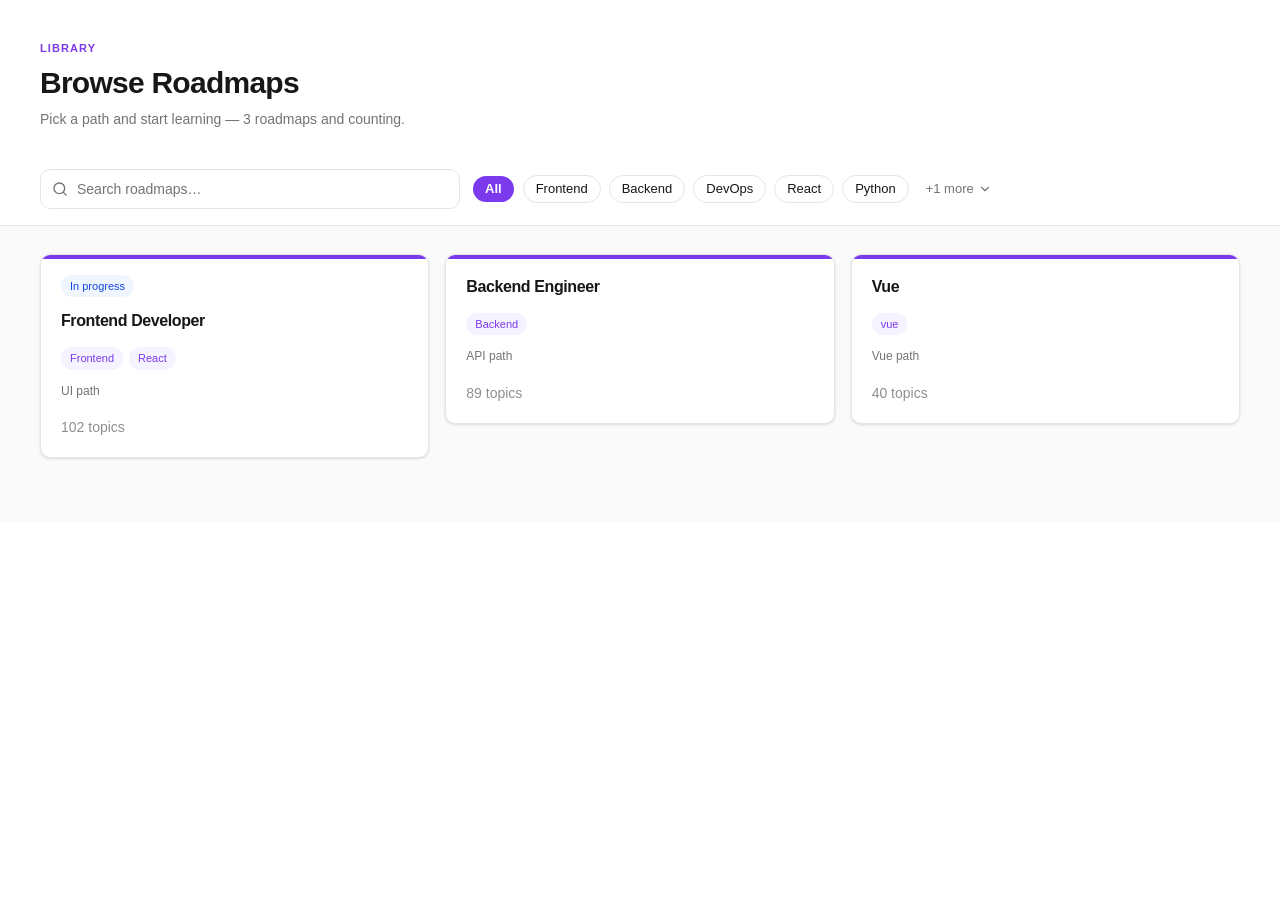
Scenario: BrowsePage › shows primary filter pills and opens overflow tags in a popover
The image size is (1280, 900).
Expected: the list named "Roadmap catalog" is shown, [40, 254, 1240, 458]
Expected: the button "All" is shown, [472, 174, 515, 202]
Click the button "+1 more".
click(959, 188)  # box [917, 174, 1001, 202]
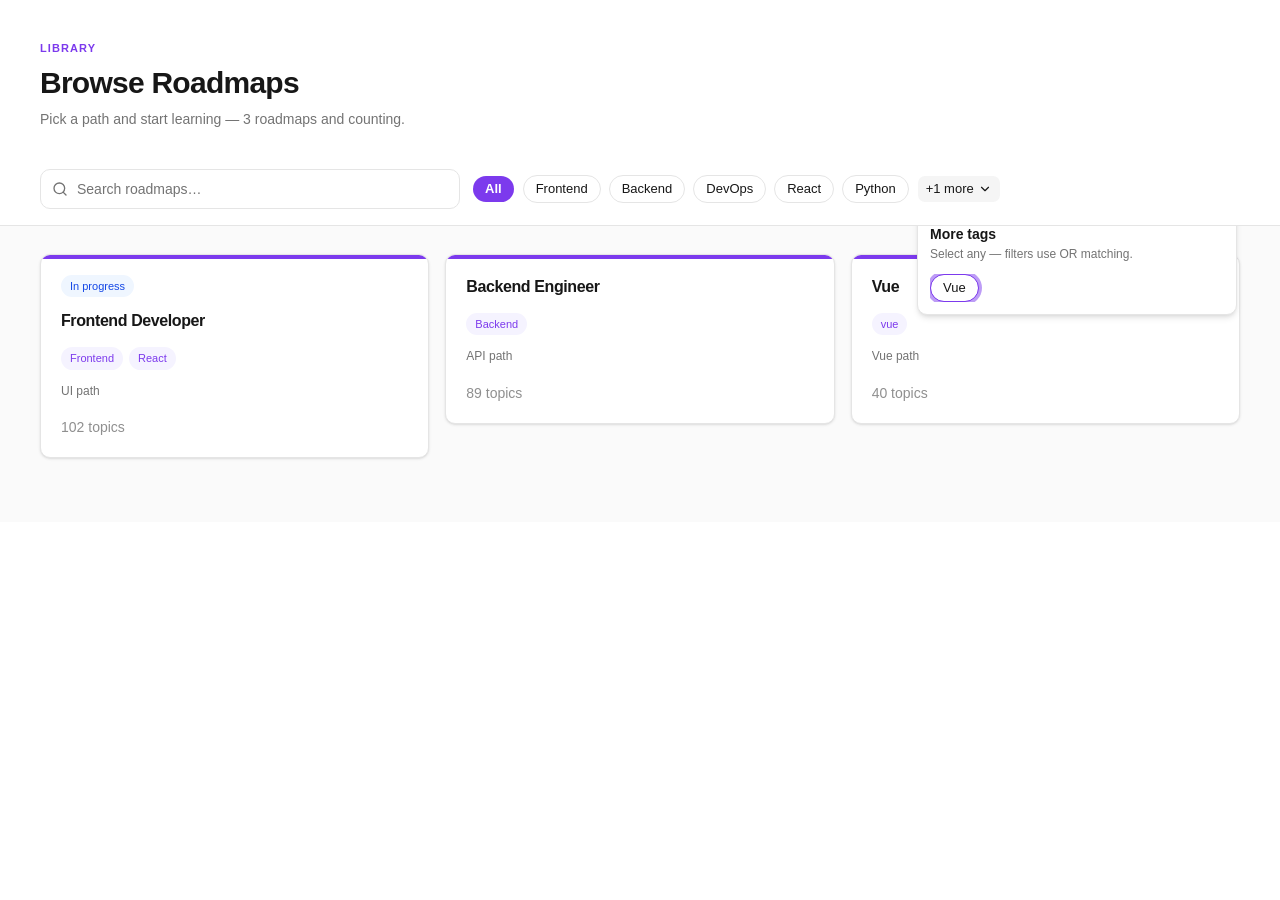
Expected: the button "Vue" is shown, [930, 274, 979, 302]
